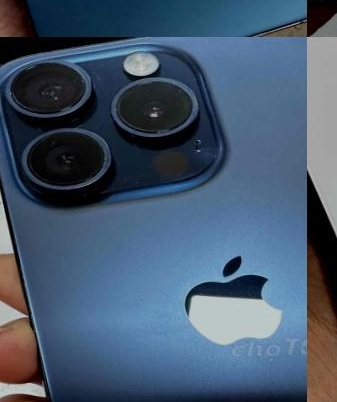scratch: (0, 52, 216, 194)
